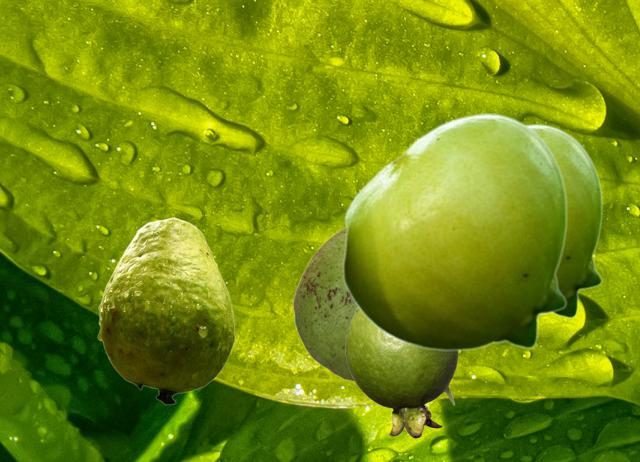guava: (341, 112, 567, 350), (97, 217, 234, 404), (528, 123, 602, 319), (345, 308, 457, 437), (292, 227, 356, 381)
